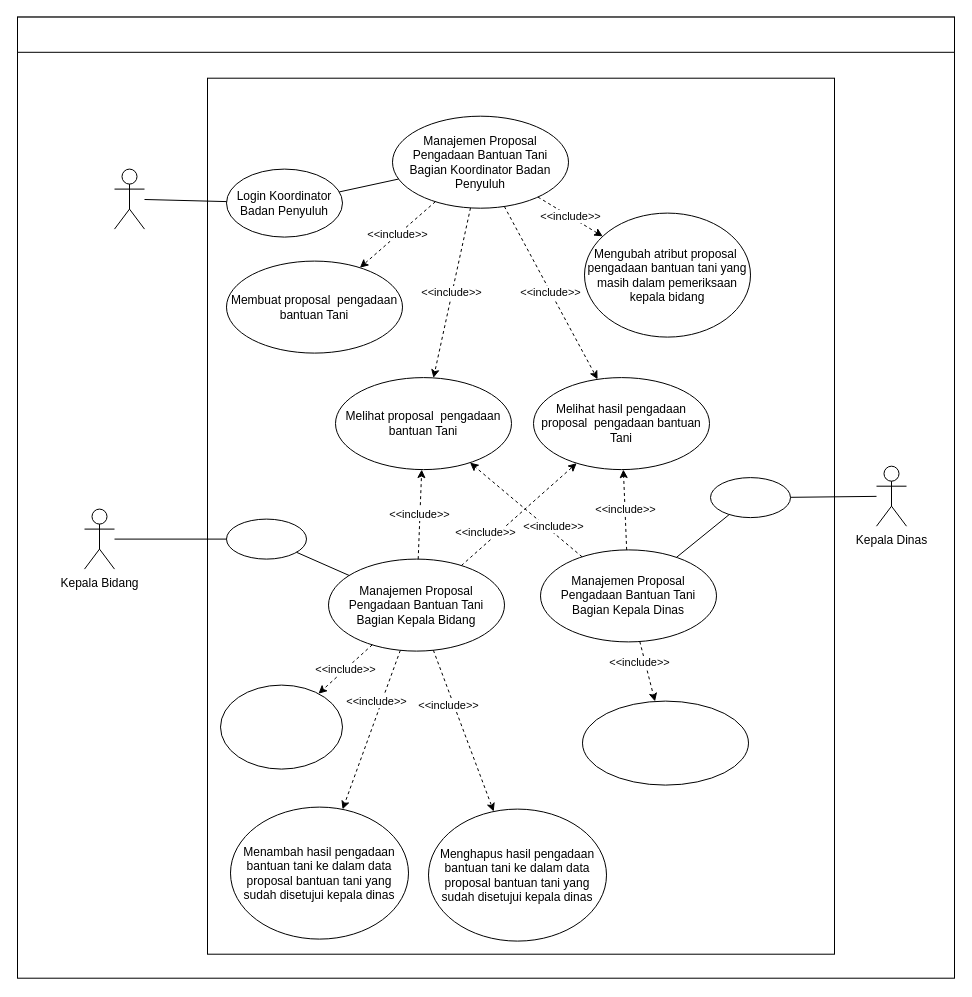
Image size: 972x997. Some labels were removed from this diagram. Each missing label, with the centre of its shape:
Iterasi 4: [485,34]
Koordinator Badan Penyuluh: [129,198]
Login Kepala Bidang: [266,538]
Login Kepala Dinas: [750,497]
Mengajukan pengadaan bantuan tani ke kepala dinas: [281,726]
Menyetujui pengadaan bantuan tani yang diajukan oleh kepala bidang: [665,742]
